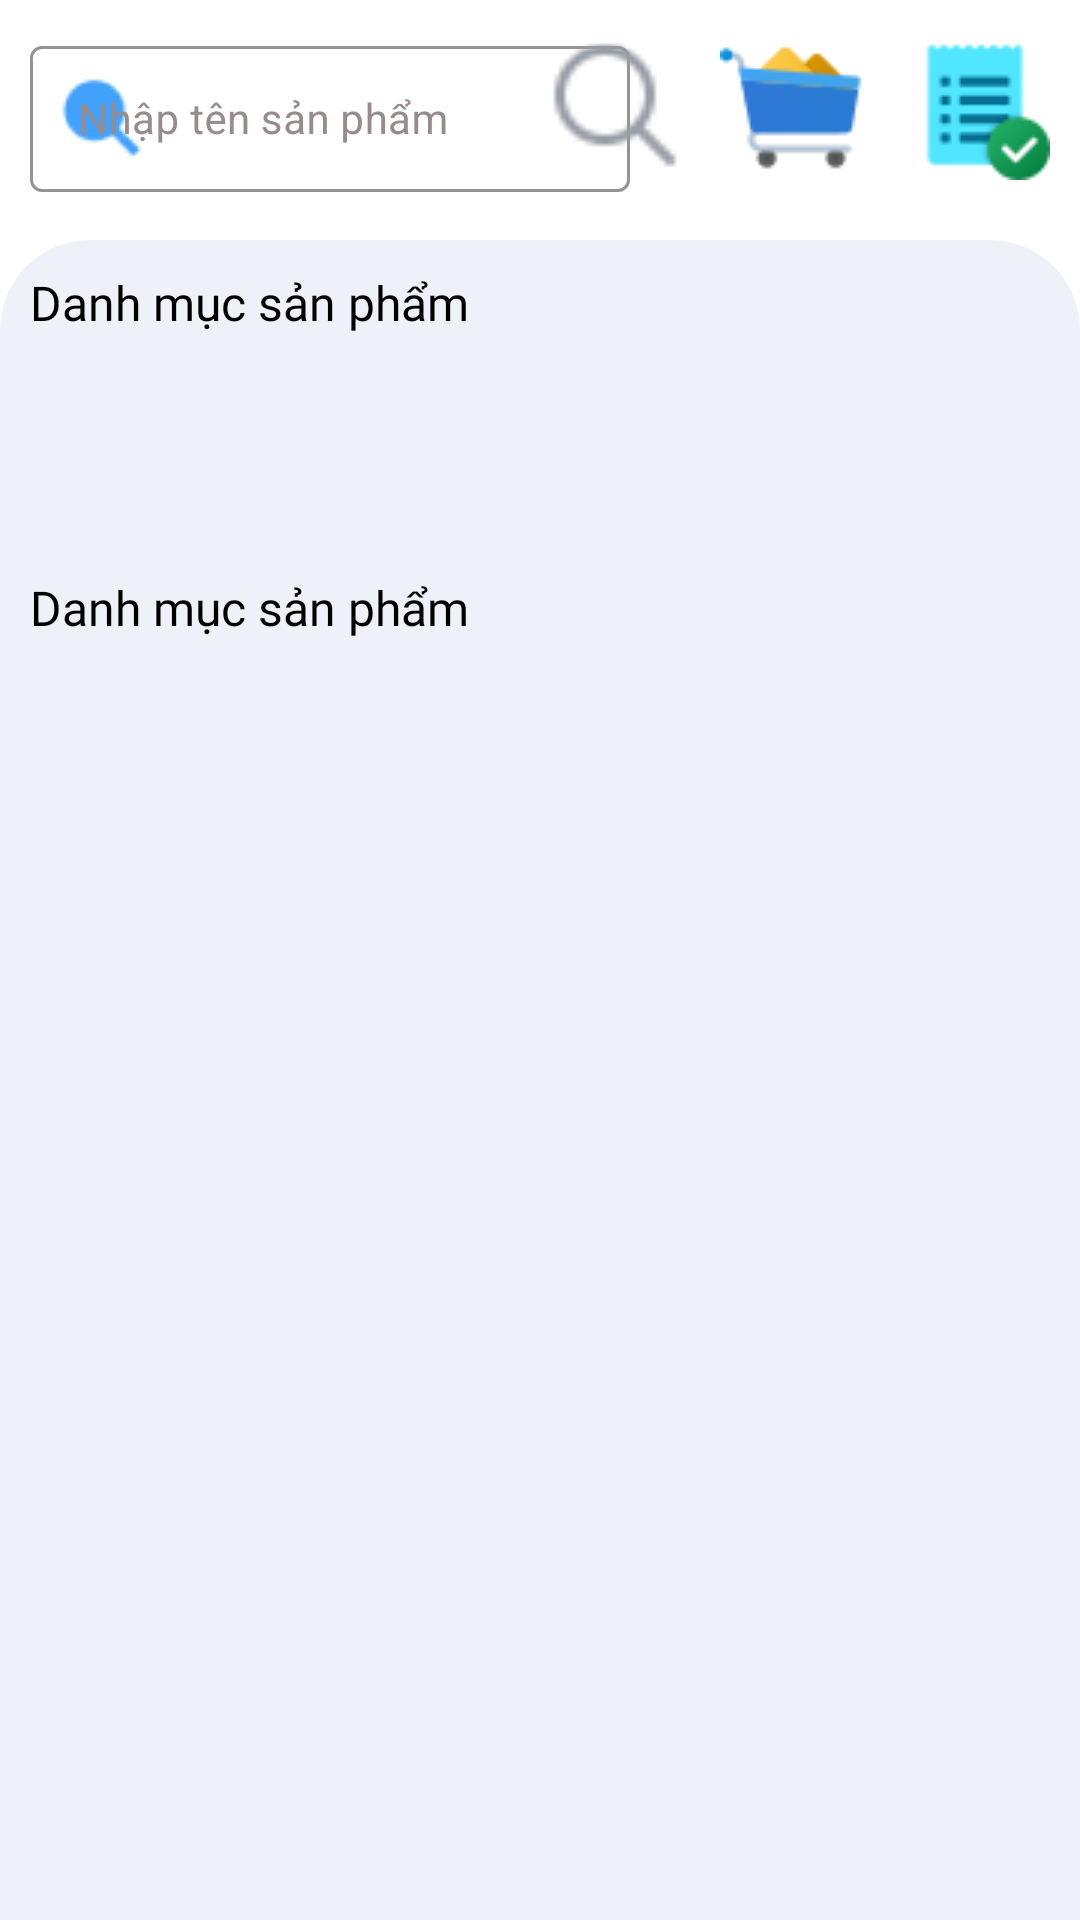

Icon click points for this 1080*1920 phone screenshot, format point (x, y):
search fragment: point (608, 112)
store don hang: point (988, 112)
store gio hang: point (791, 107)
